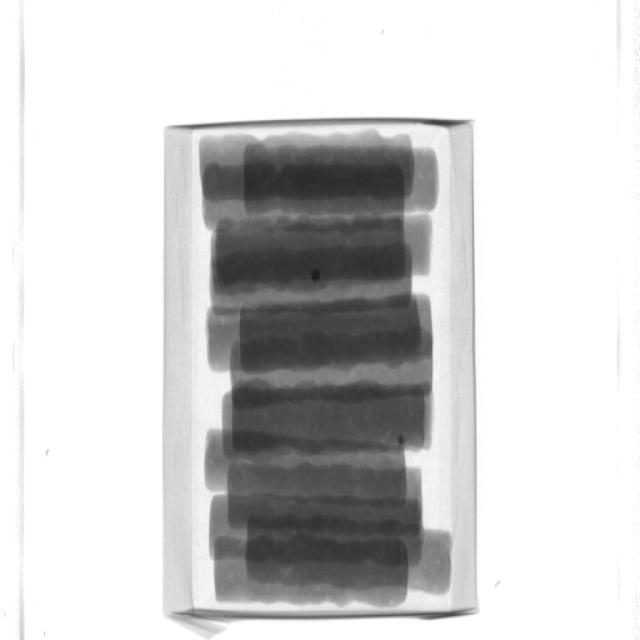ym: (398, 434, 407, 448), (313, 271, 322, 284)
